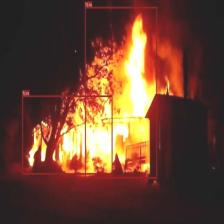fire: (85, 6, 157, 178), (22, 96, 112, 174)
